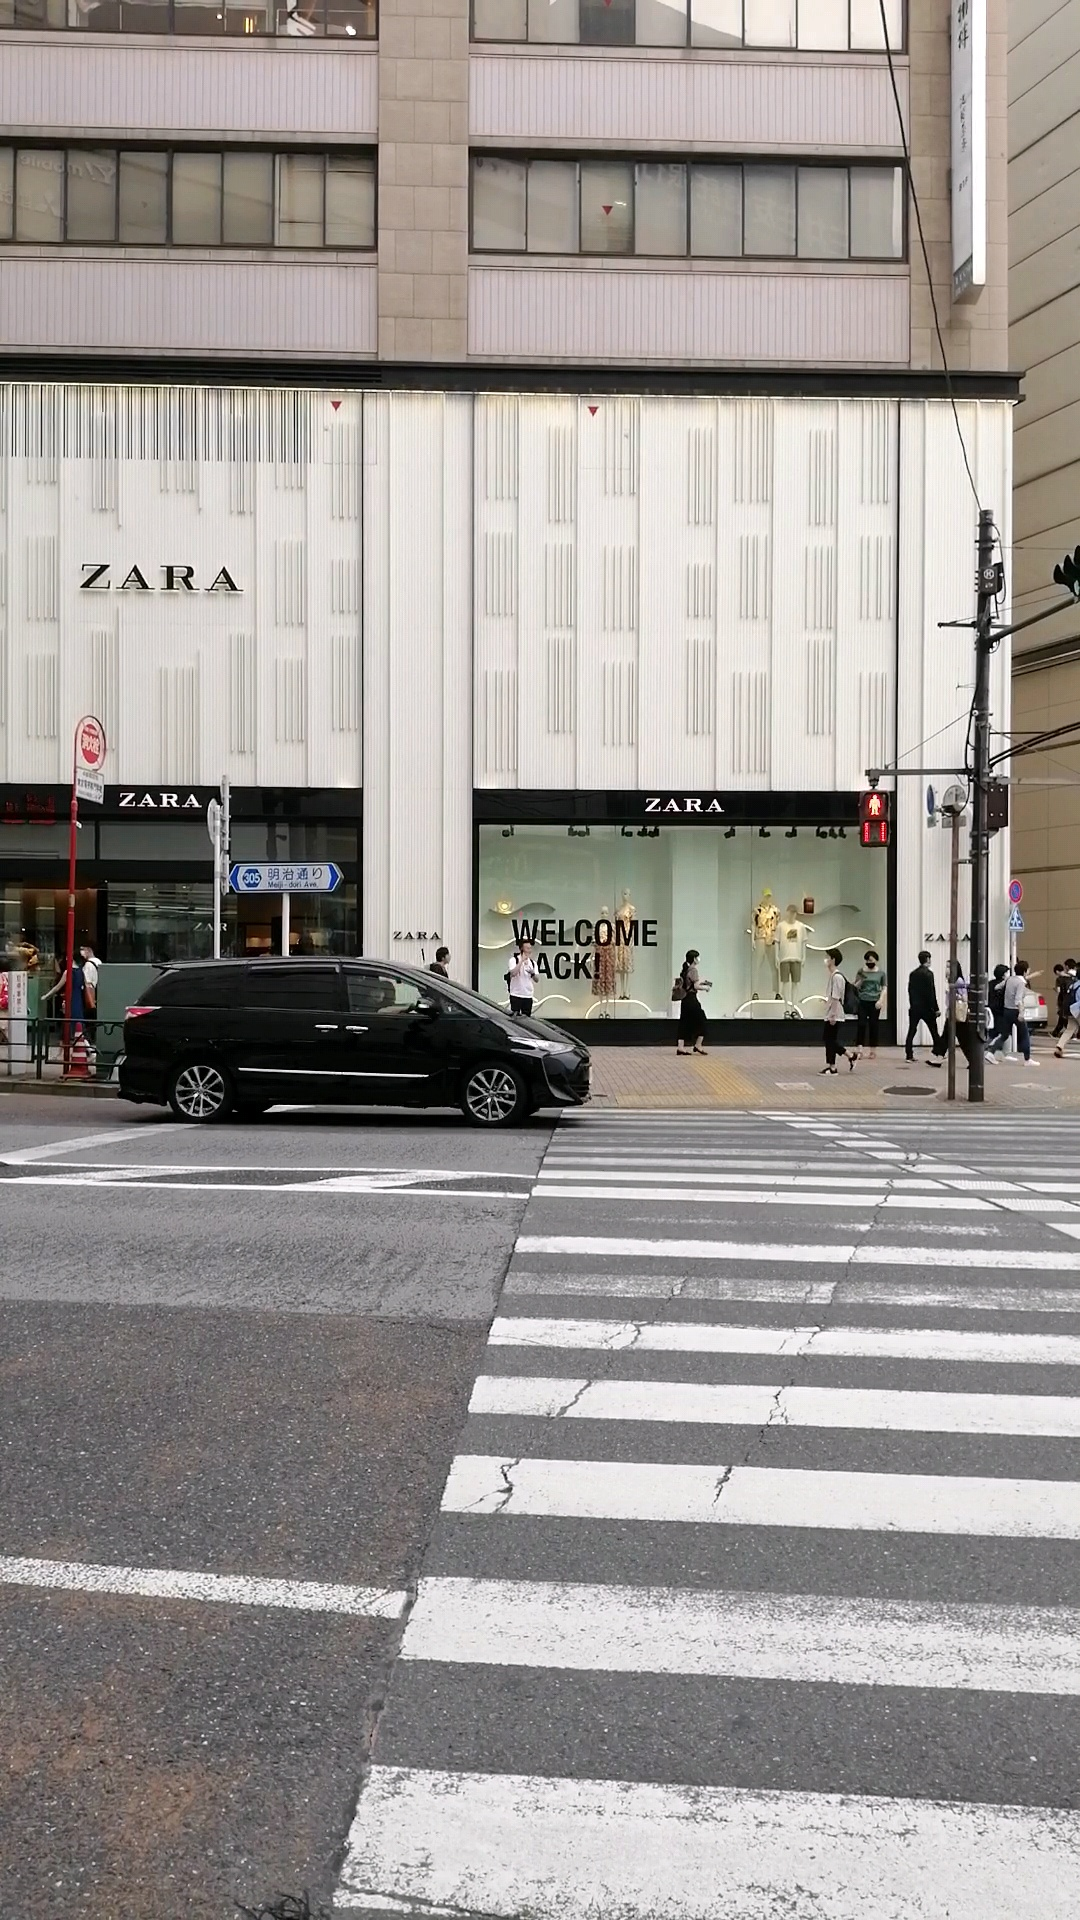red: (858, 790, 891, 848)
